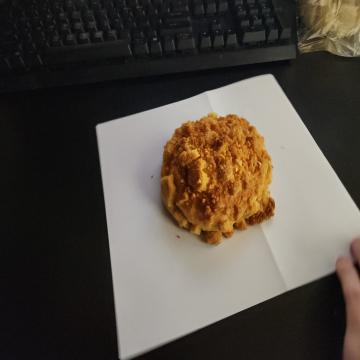soboru_bread: (163, 115, 276, 249)
